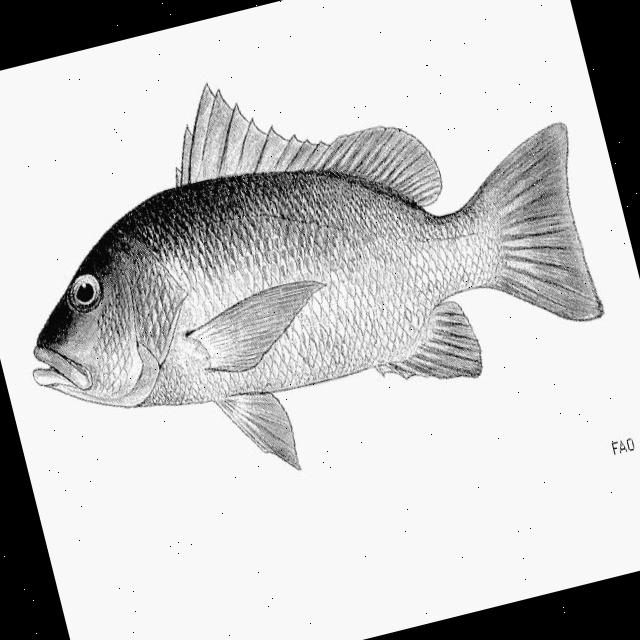ikan: (0, 0, 631, 526)
